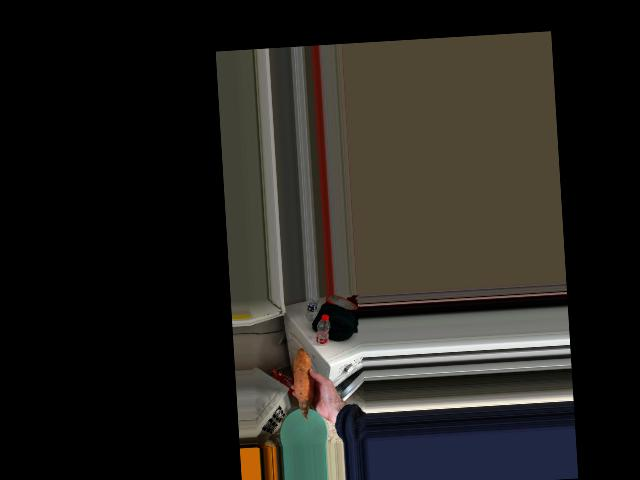sweet_potato: (295, 356, 314, 409)
